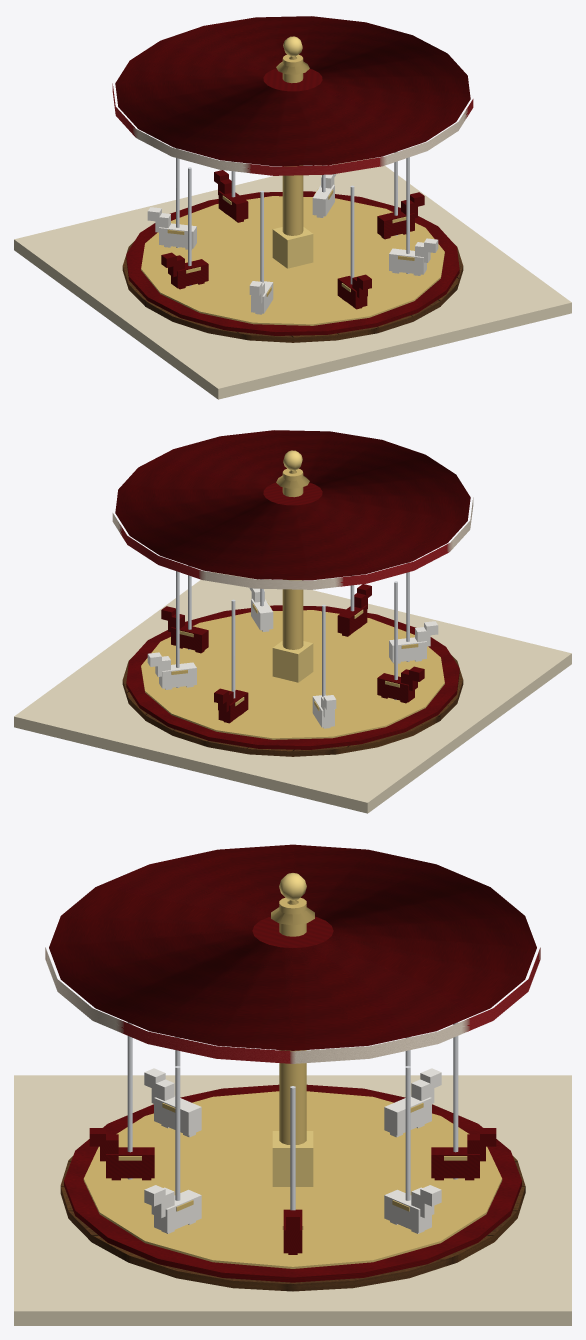
File: ride_carousel.glb
3 renders of one model, top to bottom at view 1: azimuth 30°, elevation 25°; view 2: azimuth 150°, elevation 25°; view 3: azimuth 270°, elevation 25°, orthographic. The views are drawn at different scales.
Visible parts, largest first — view 1: canopy, base, platform_mesh, horse_01, horse_04, horse_05, horse_00, horse_06, horse_02, horse_07, horse_03; view 2: canopy, base, platform_mesh, horse_07, horse_04, horse_03, horse_00, horse_02, horse_06, horse_01, horse_05; view 3: canopy, base, platform_mesh, horse_02, horse_06, horse_03, horse_05, horse_01, horse_07, horse_00, hpole_n_1, hpole_n_7 (+3 smaller).
Part boxes in pixels (x1,y1,x2,y2): canopy: (112, 16, 473, 175); base: (14, 54, 571, 399); platform_mesh: (126, 191, 459, 335); horse_01: (389, 238, 438, 275); horse_04: (161, 252, 208, 289); horse_05: (147, 207, 196, 249); horse_00: (377, 192, 424, 239); horse_06: (214, 170, 248, 222); horse_02: (337, 274, 371, 309); horse_07: (312, 164, 336, 217); horse_03: (249, 281, 273, 314); canopy: (112, 430, 473, 589); base: (14, 468, 571, 813); platform_mesh: (126, 605, 459, 749); horse_07: (147, 652, 196, 689); horse_04: (377, 666, 424, 703); horse_03: (389, 621, 438, 663); horse_00: (161, 606, 208, 653); horse_02: (337, 584, 371, 636); horse_06: (214, 688, 248, 723); horse_01: (249, 578, 273, 631); horse_05: (312, 695, 336, 728); canopy: (45, 844, 540, 1063); base: (14, 897, 571, 1325); platform_mesh: (64, 1084, 521, 1282); horse_02: (89, 1128, 154, 1180); horse_06: (431, 1128, 496, 1180); horse_03: (144, 1068, 201, 1137); horse_05: (384, 1068, 441, 1137); horse_01: (144, 1185, 201, 1233); horse_07: (384, 1185, 441, 1233); horse_00: (282, 1209, 303, 1254); hpole_n_1: (175, 1066, 180, 1227); hpole_n_7: (405, 1066, 410, 1227).
Size of the model in its own units: 4.8 by 3.17 by 4.8.
8 materials, 3 textured.
